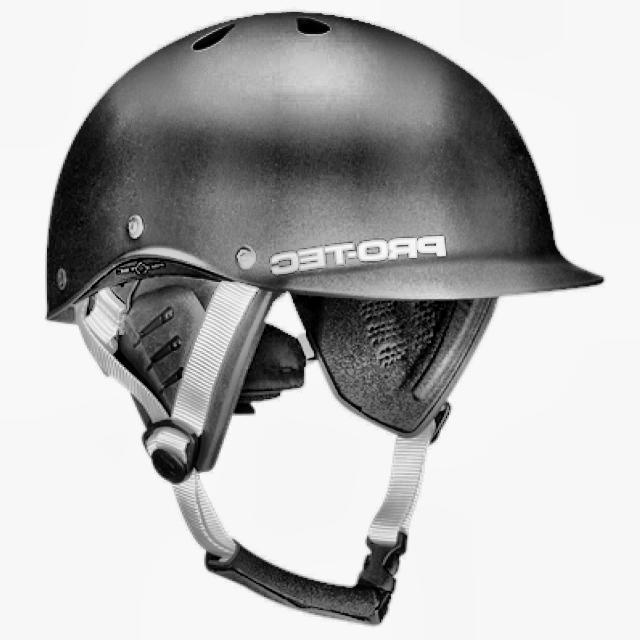Helmet: (43, 10, 605, 634)
